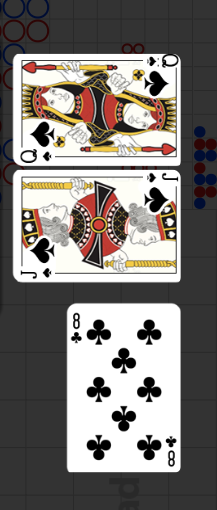8C: (70, 312, 84, 346), (164, 433, 177, 467)
9S: (144, 54, 181, 68)
JS: (132, 171, 179, 215), (12, 238, 58, 282)
